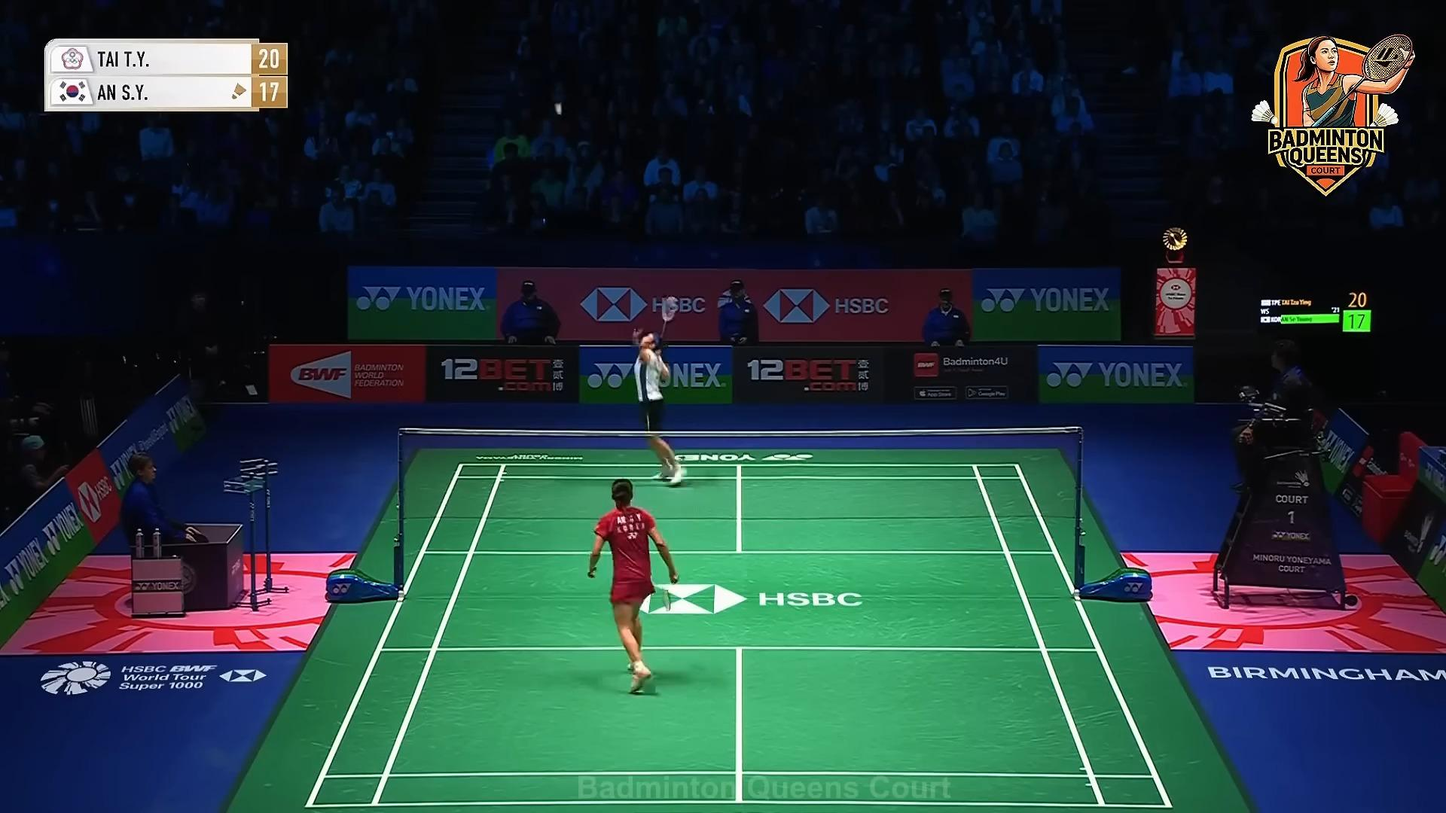player: (588, 478, 679, 695), (634, 327, 685, 486)
shuttlecock: (555, 102, 563, 115)
